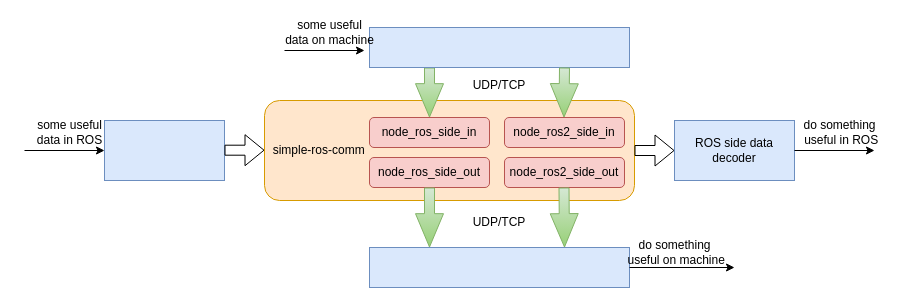
Image size: 902x305. Some labels were removed from this diagram. The shapes that lost their labels are listed below. From the top down, each one's box as (x1, y1, x2, y2) in pixels, then its label:
(368, 26, 630, 68): machine side
(104, 120, 224, 180): ROS side data encoder
(368, 246, 630, 288): machine side data decoder
